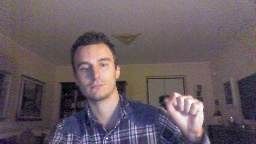Pugno: (161, 90, 204, 135)
